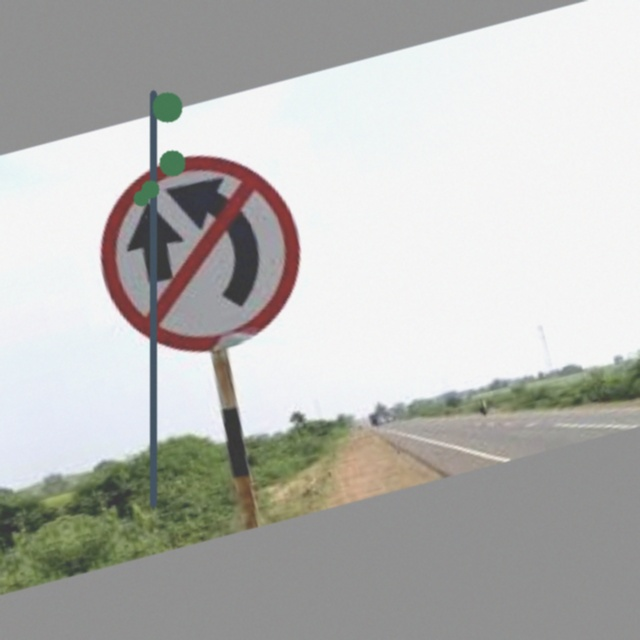Overtaking_Prohibited: (91, 137, 313, 365)
